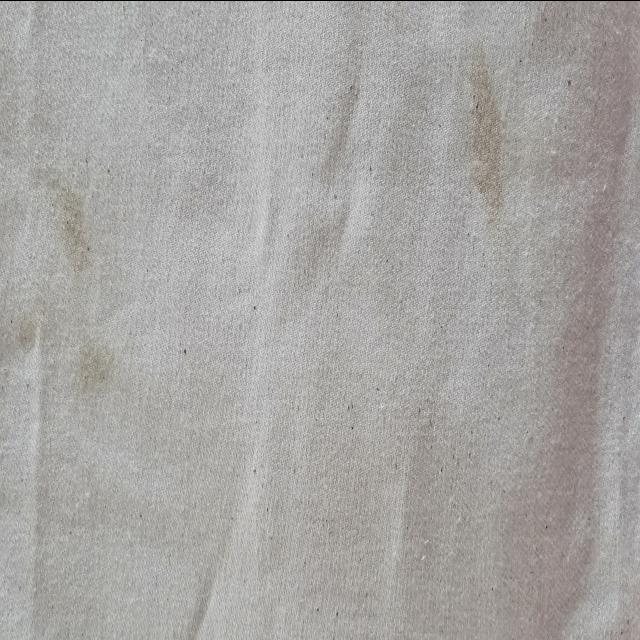taaaches: (444, 7, 517, 235), (40, 162, 106, 292), (55, 340, 127, 412)
